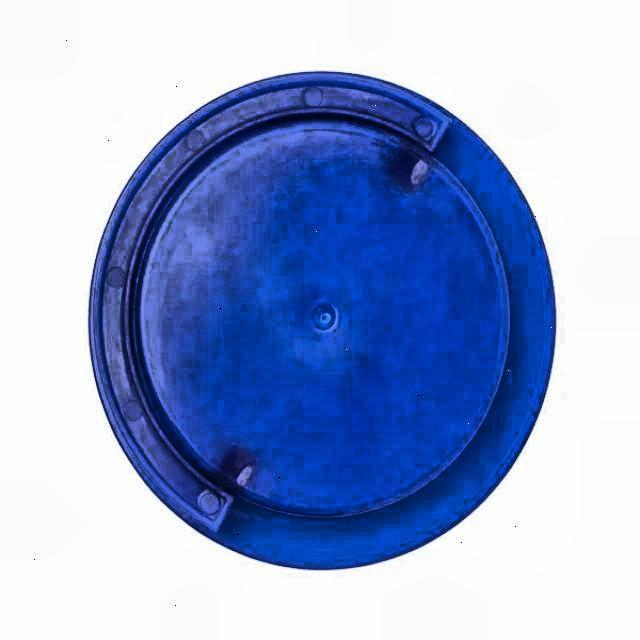plastic: (87, 72, 557, 573)
